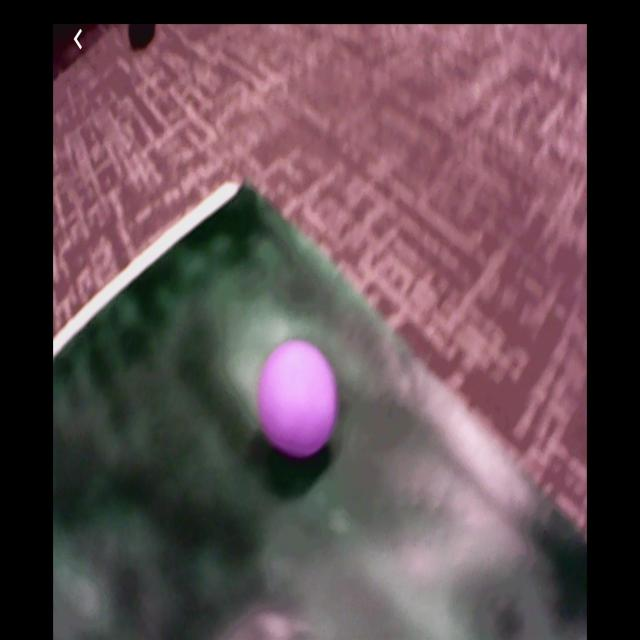ball: (258, 340, 336, 459)
